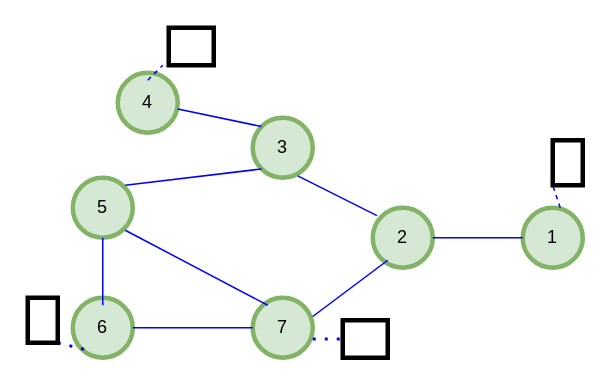
This 611x386 diagram has some shape labels left out. Each missing label, with the centre of its shape:
"C1" belongs at pixel 190 46.
"C2" belongs at pixel 364 338.
"S1" belongs at pixel 567 162.
"S2" belongs at pixel 42 319.
